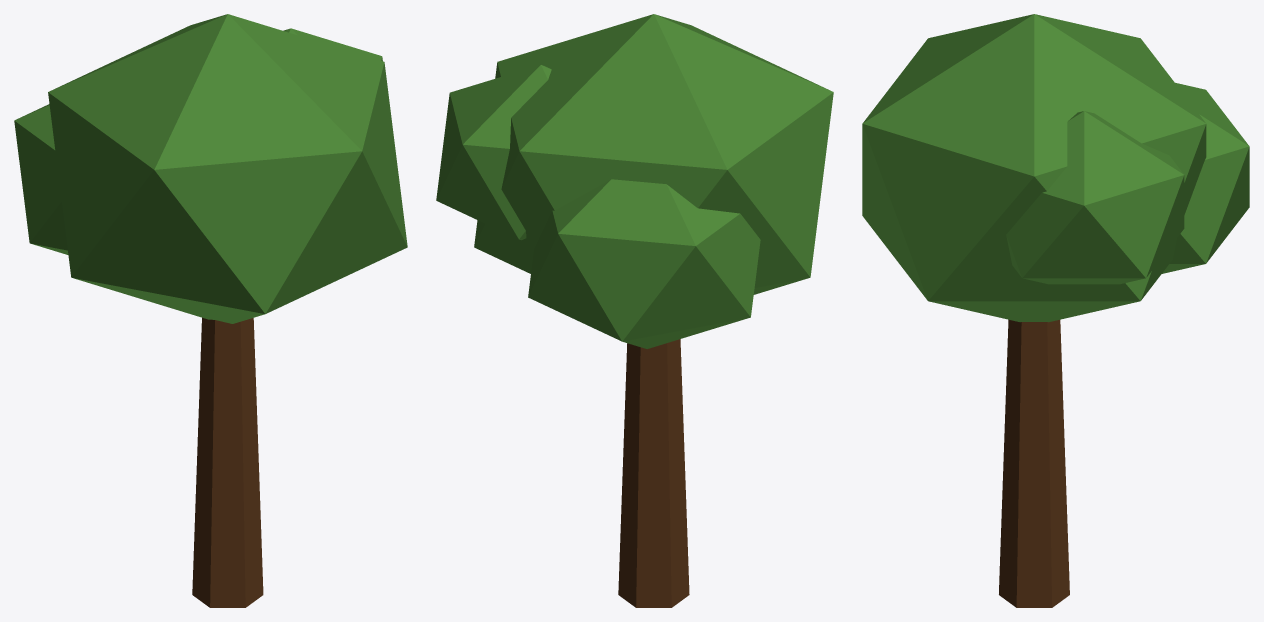
Rendered from tree1.glb.
The picture shows the model from 3 angles, left to right: view 1: azimuth 30°, elevation 25°; view 2: azimuth 150°, elevation 25°; view 3: azimuth 270°, elevation 25°; orthographic projection.
Parts seen in each view (by area): view 1: tree1; view 2: tree1; view 3: tree1.
Part boxes in pixels (x1,y1,x2,y2): tree1: (14,14,407,607); tree1: (436,14,833,607); tree1: (862,14,1249,607).
Size of the model in its own units: 2.4 by 3.96 by 2.39.
